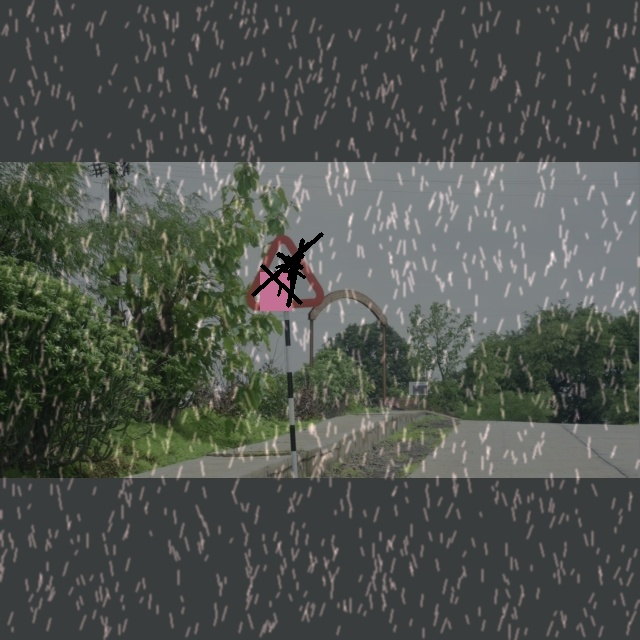Y_Intersection: (247, 224, 324, 313)
